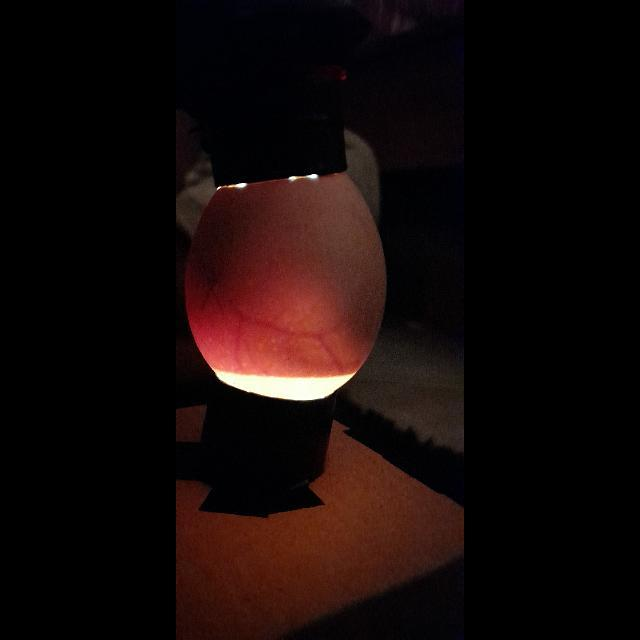Fertile: (188, 170, 388, 398)
